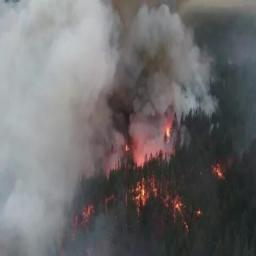Heavy smoke: (0, 0, 217, 255)
Medium fire: (31, 93, 238, 231)
